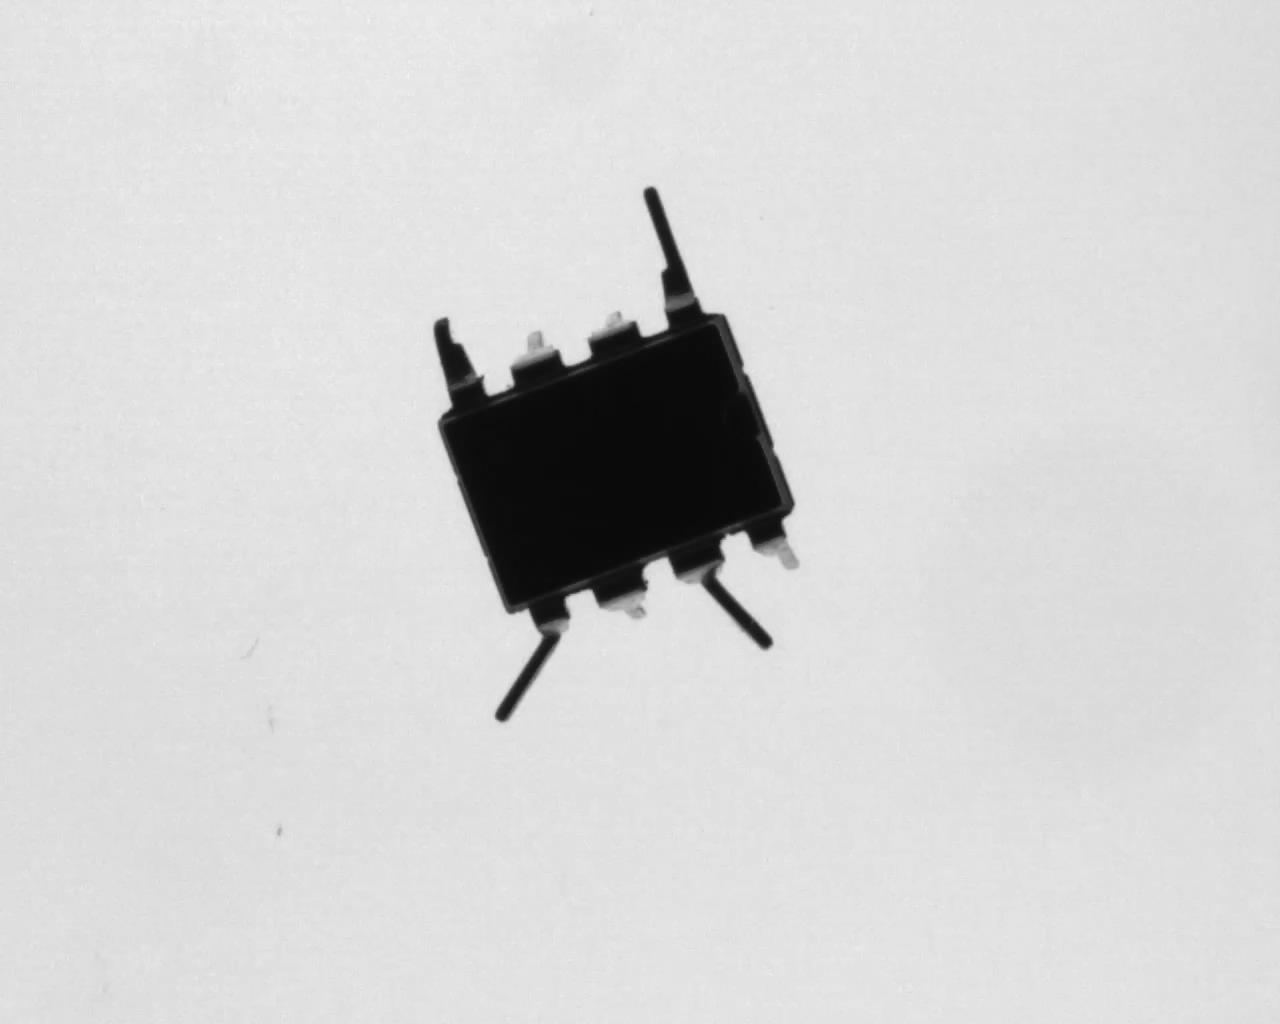Leg: (669, 536, 773, 651), (494, 599, 571, 723), (644, 185, 705, 331), (433, 317, 490, 410), (591, 560, 652, 620), (510, 328, 565, 390), (747, 512, 799, 571), (586, 308, 644, 359)
